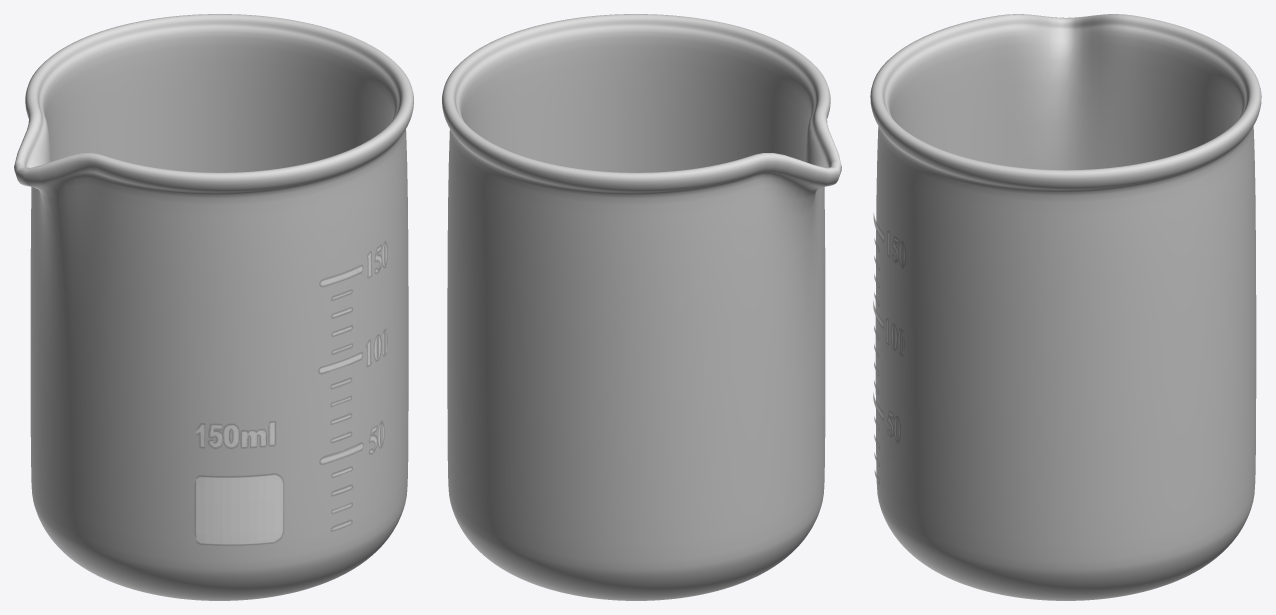
File: beaker-transformed.glb
3 views of the same model, side by side, from view 1: azimuth 30°, elevation 25°; view 2: azimuth 150°, elevation 25°; view 3: azimuth 270°, elevation 25° (orthographic).
Parts seen in each view (by area): view 1: Object_4, Object_6; view 2: Object_4; view 3: Object_4, Object_6.
Boxes of the visible parts, box(x1,y1,x2,y2) form: Object_4: box(14, 14, 413, 600); Object_6: box(195, 241, 387, 545); Object_4: box(442, 14, 841, 600); Object_4: box(870, 14, 1261, 600); Object_6: box(873, 213, 905, 484).
Bounding box in the file's own units: 7.25 × 8.4 × 6.56.
Materials: 2 (1 with a texture image).
